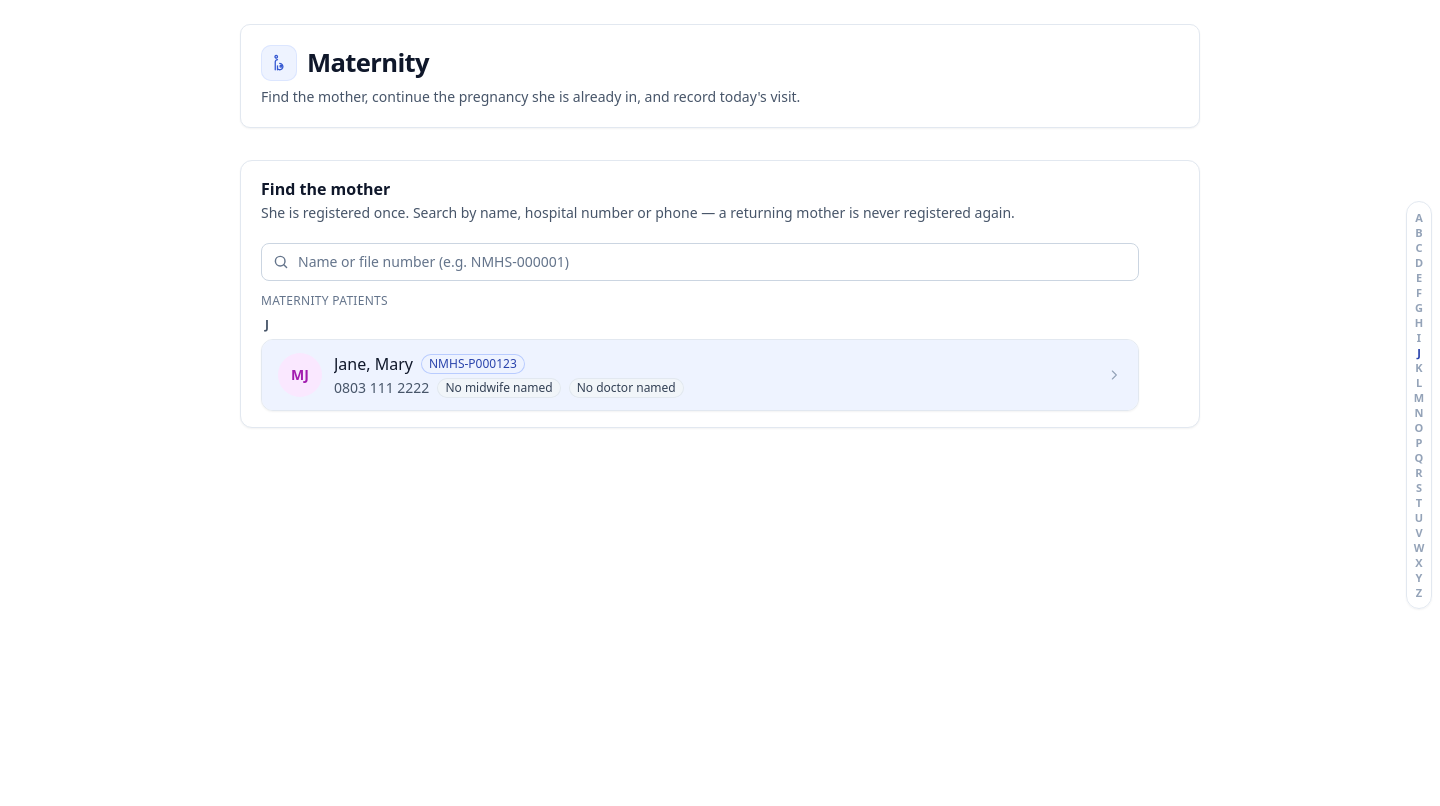
finding a returning mother › shows who she is and the pregnancy she is already in
Click the dropdown named "Search maternity patients" at (700, 262), box x1=261 y1=243 x2=1139 y2=281
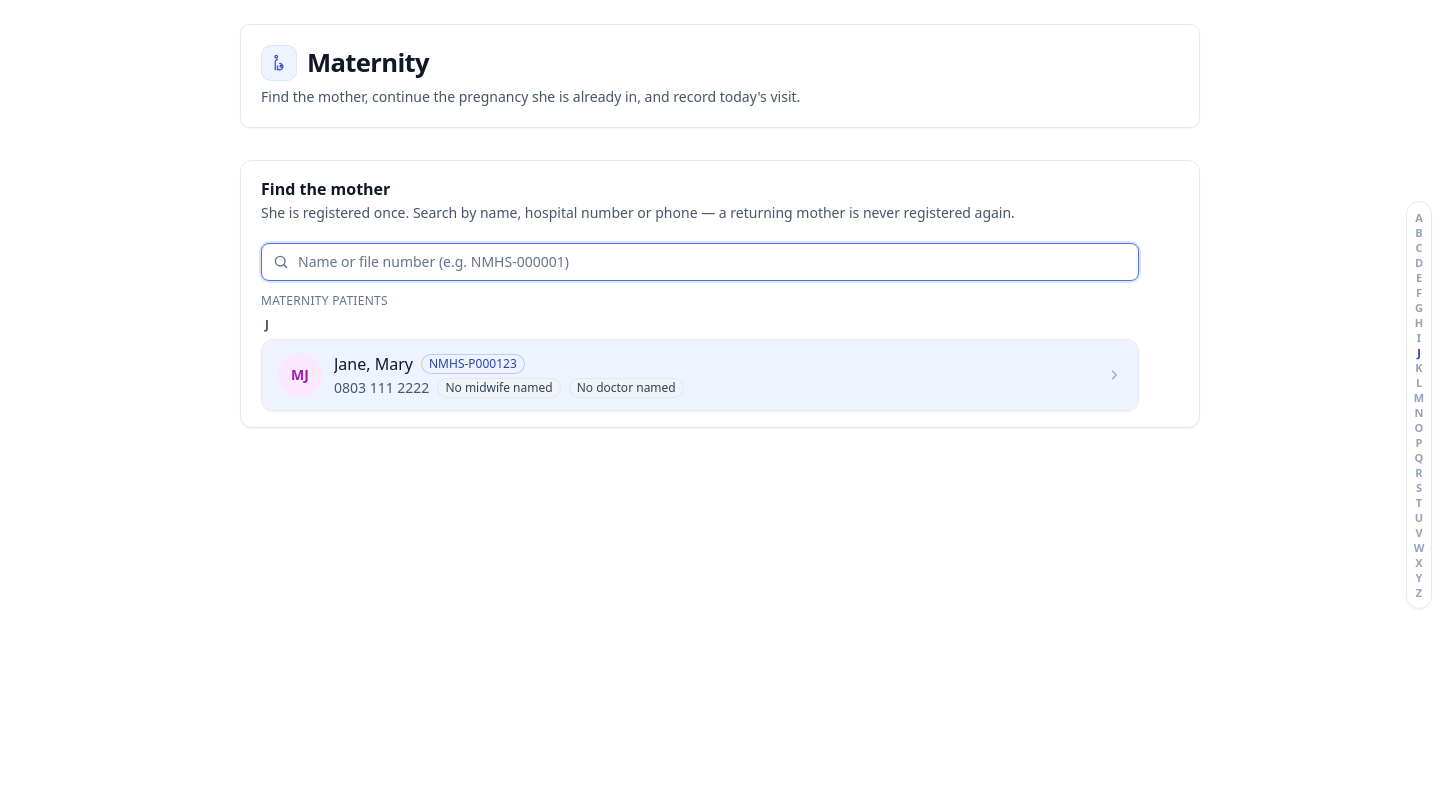
Click the option "Jane, Mary" at (300, 375), box x1=262 y1=340 x2=1138 y2=410
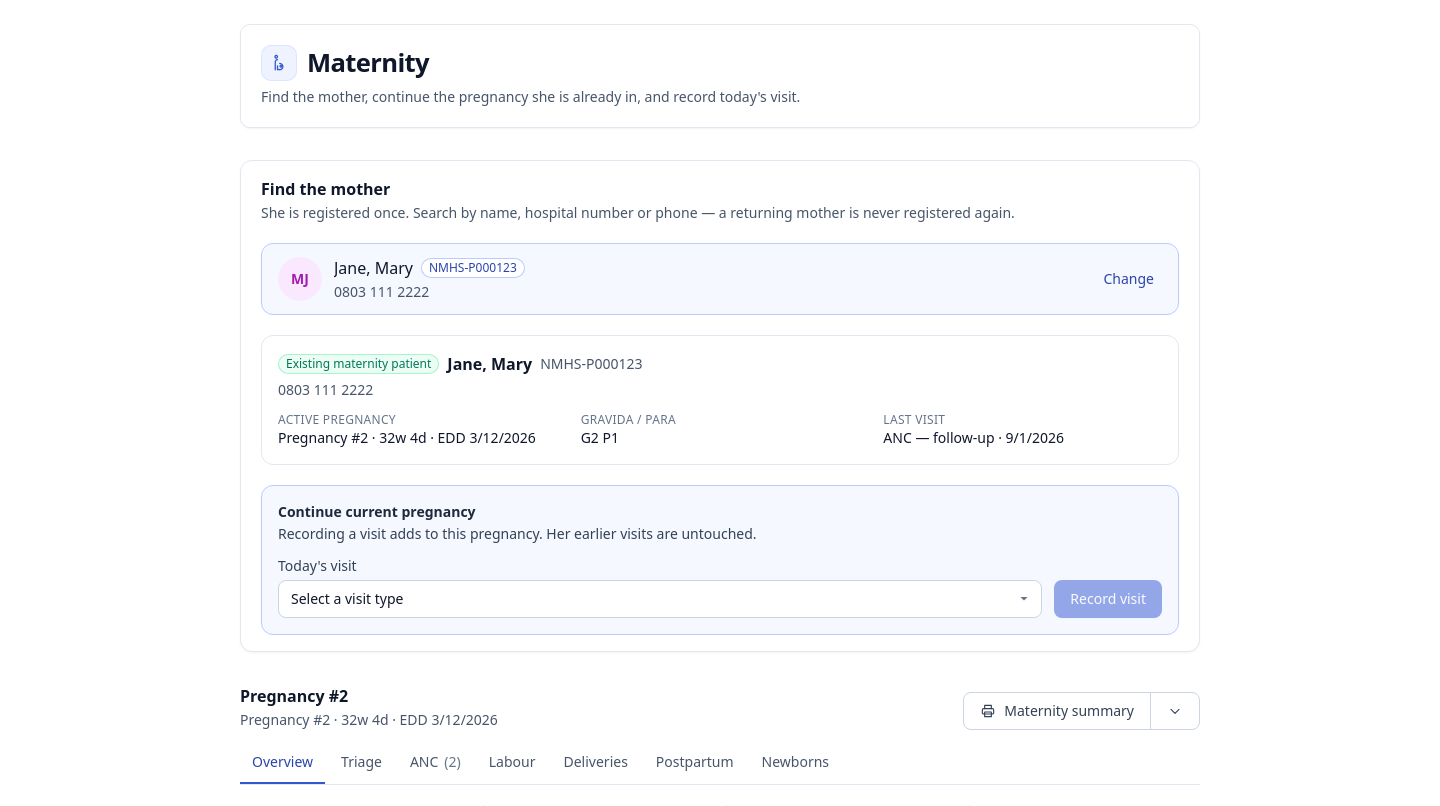
Expected: the text "Existing maternity patient" is shown, x1=278 y1=354 x2=439 y2=374
Expected: the text "Jane, Mary" next to "Existing maternity patient" is shown, x1=447 y1=353 x2=532 y2=375
Expected: the text "NMHS-P000123" in the row of "Existing maternity patient" is shown, x1=540 y1=354 x2=642 y2=373
